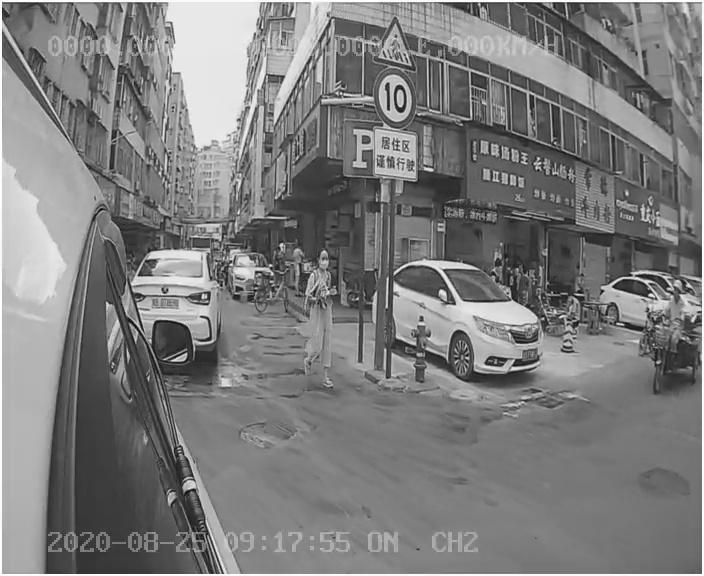person: (292, 248, 350, 393)
